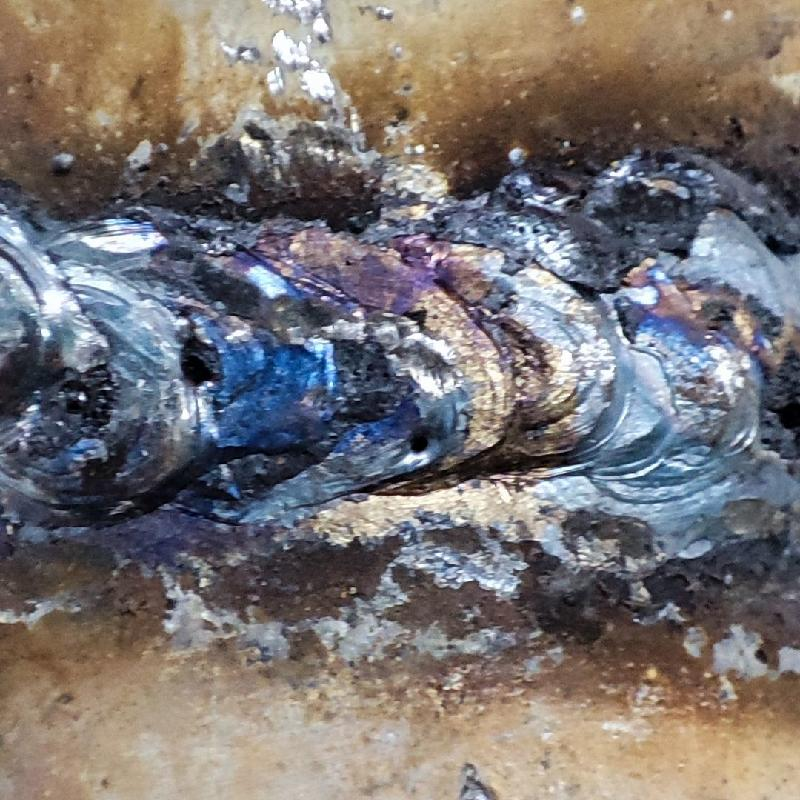Surface_pores: (155, 330, 228, 400), (388, 415, 440, 460)
good: (2, 196, 798, 537)
